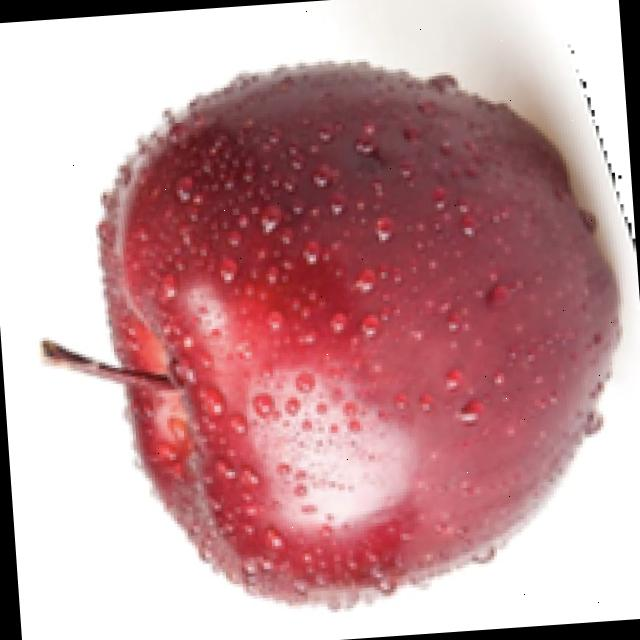apple: (34, 0, 635, 615)
